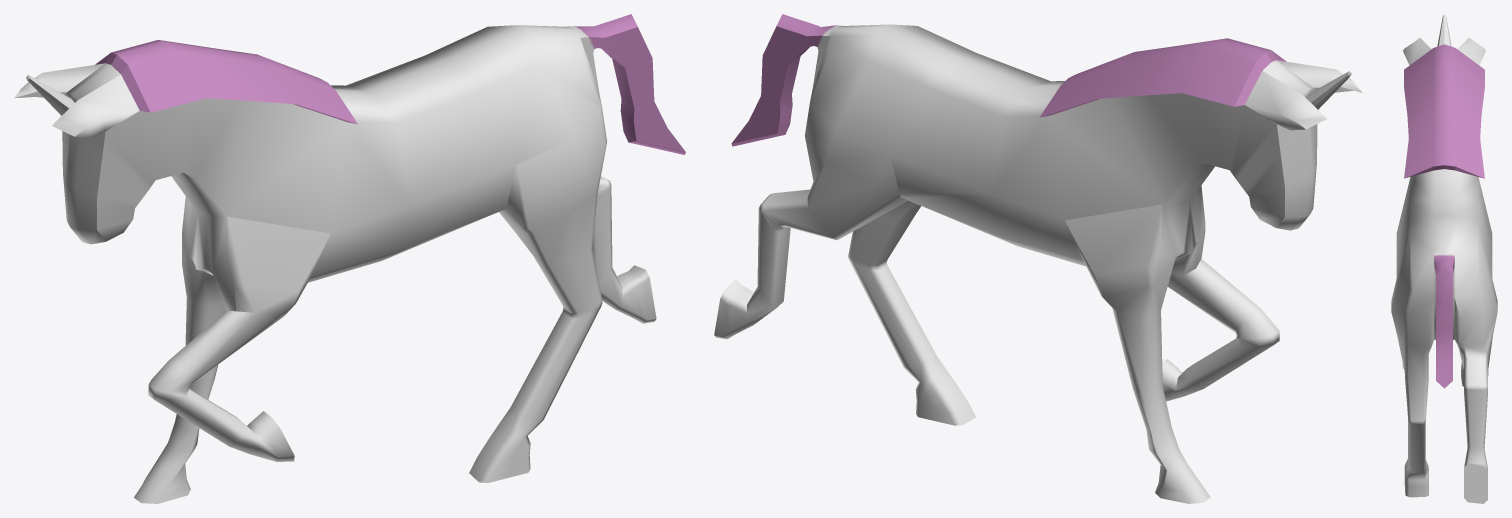
The model's file is Unicon_Self.fbx.
3 views of the same model, side by side, from view 1: azimuth 30°, elevation 25°; view 2: azimuth 150°, elevation 25°; view 3: azimuth 270°, elevation 25° (orthographic). The views are drawn at different scales.
Parts seen in each view (by area): view 1: Unicon1; view 2: Unicon1; view 3: Unicon1.
Part boxes in pixels (<box>): Unicon1: <box>14,14,685,503</box>; Unicon1: <box>714,14,1362,503</box>; Unicon1: <box>1391,14,1497,503</box>.
Bounding box in the file's own units: 4.58 × 3.26 × 0.9588.
